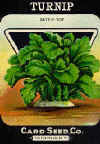turnip: (0, 30, 99, 117)
